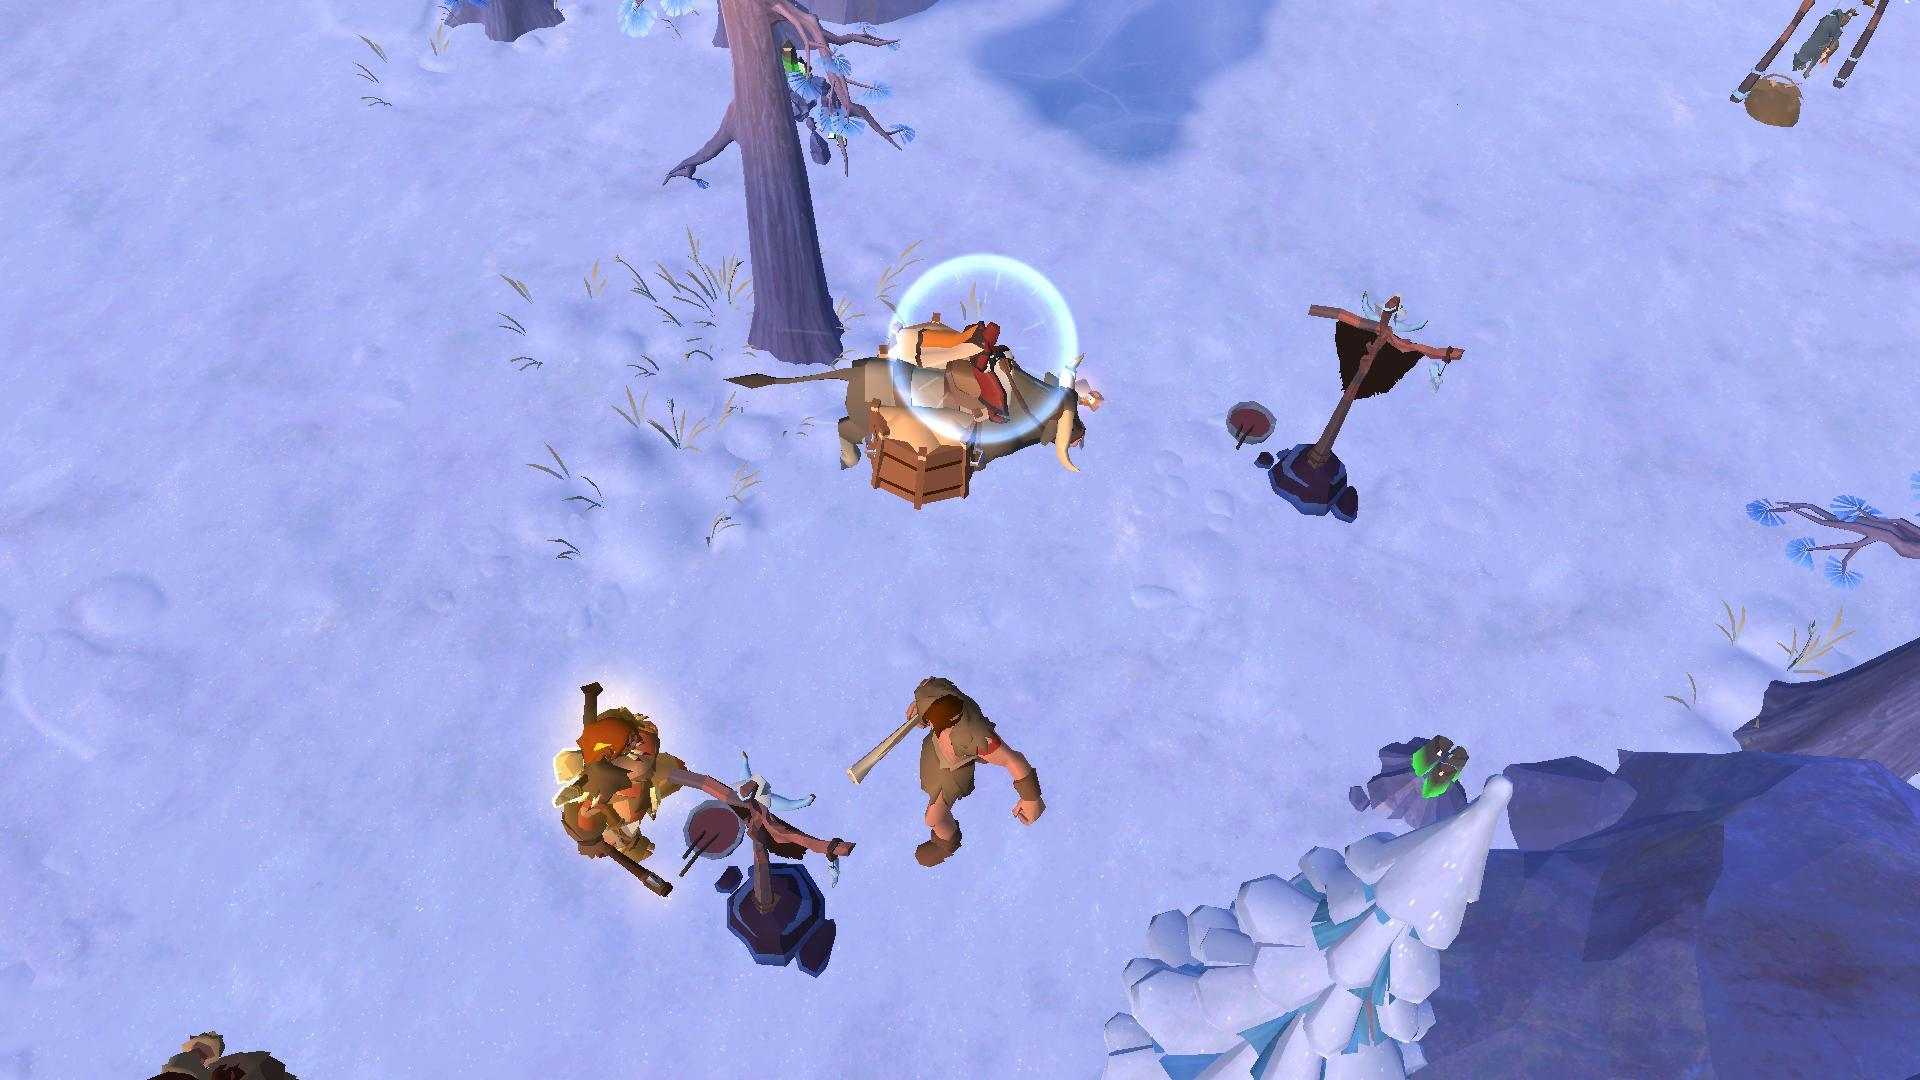enemy_factionKeeper: (873, 658, 1042, 868), (563, 686, 705, 889)
ore_t3: (1399, 727, 1474, 804)
